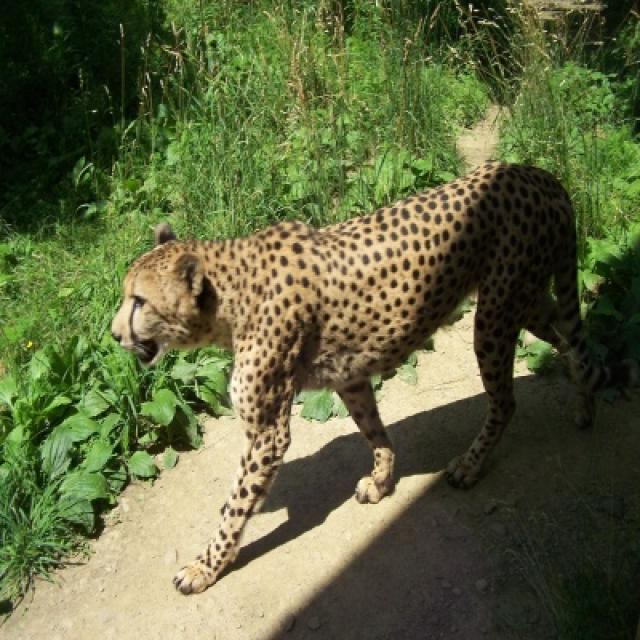Cheetah: (109, 162, 587, 597)
